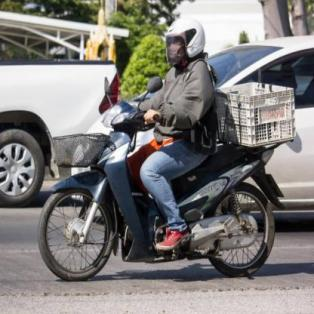Motocicleta: (37, 74, 282, 281)
